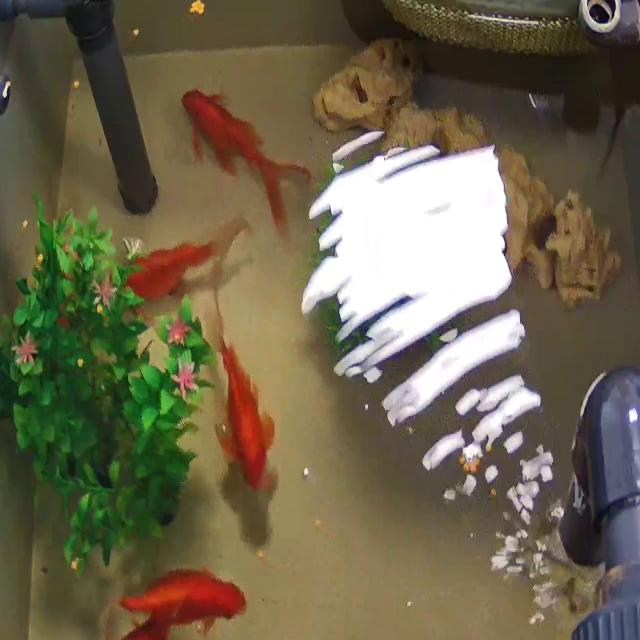fish: (180, 91, 309, 231), (210, 305, 278, 492), (121, 230, 238, 304), (118, 570, 248, 636), (65, 610, 176, 640)
